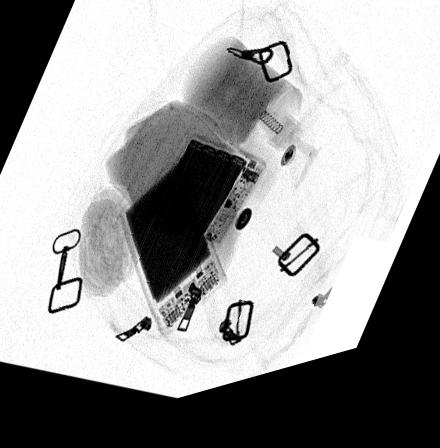Powerbank: (118, 168, 227, 348), (150, 147, 266, 262)
